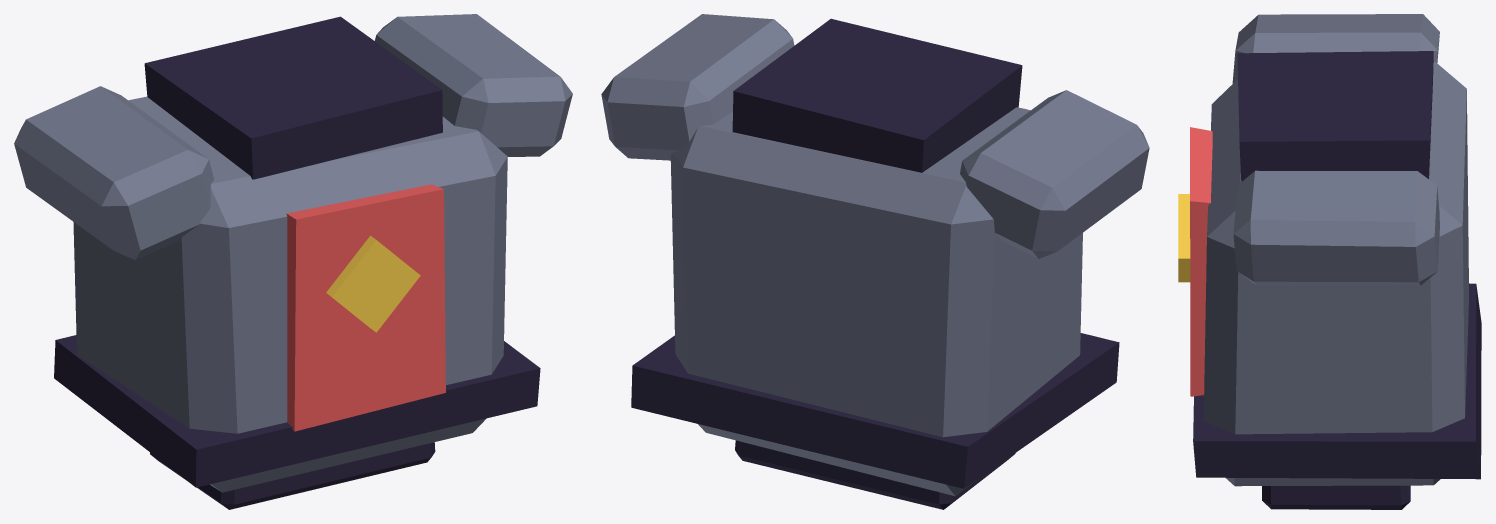
File: guard_body.fbx
3 views of the same model, side by side, from view 1: azimuth 30°, elevation 25°; view 2: azimuth 150°, elevation 25°; view 3: azimuth 270°, elevation 25° (orthographic). The views are drawn at different scales.
Visible parts, largest first — view 1: guard_body; view 2: guard_body; view 3: guard_body.
Part boxes in pixels (x1,y1,x2,y2): guard_body: [14, 14, 572, 509]; guard_body: [601, 14, 1149, 509]; guard_body: [1178, 14, 1481, 509].
Size of the model in its own units: 1.13 by 0.8828 by 0.6603.
